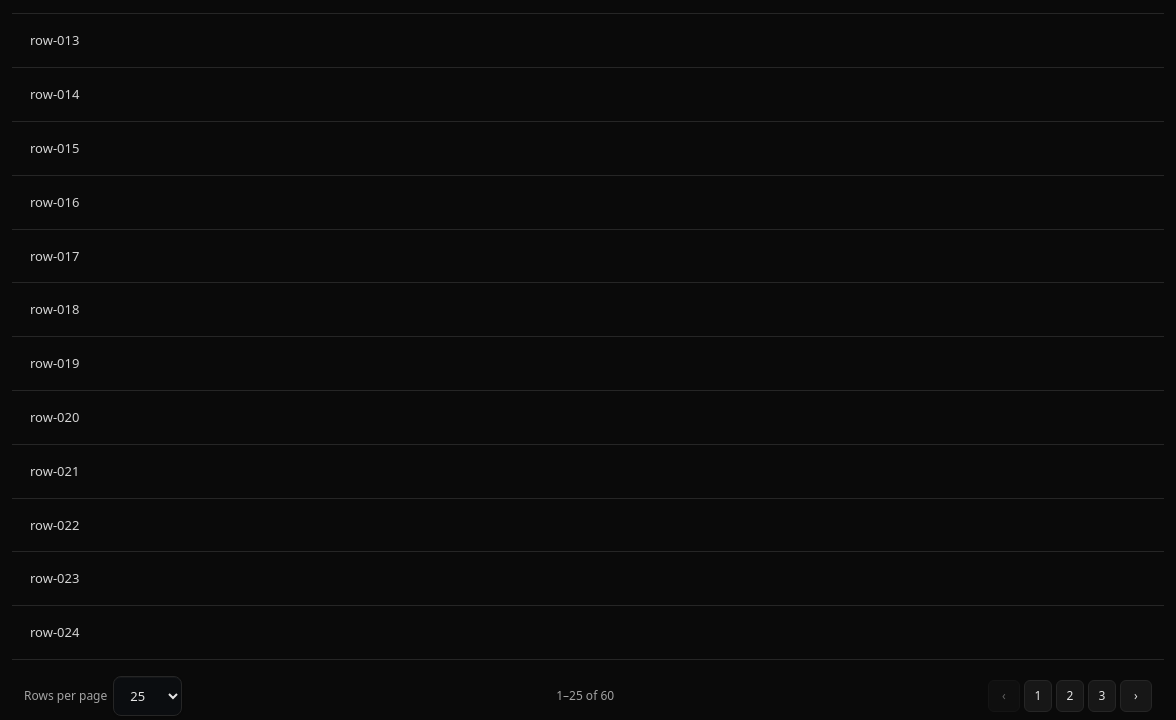
it: DataTable — pagination › ⭐ FILTERING FROM A DEEP PAGE RETURNS TO PAGE ONE — the operator's own search must not read as empty
(page scrolled)
Step 1. Click the button named "Next page" → [1136, 696], box [1120,680,1152,712]
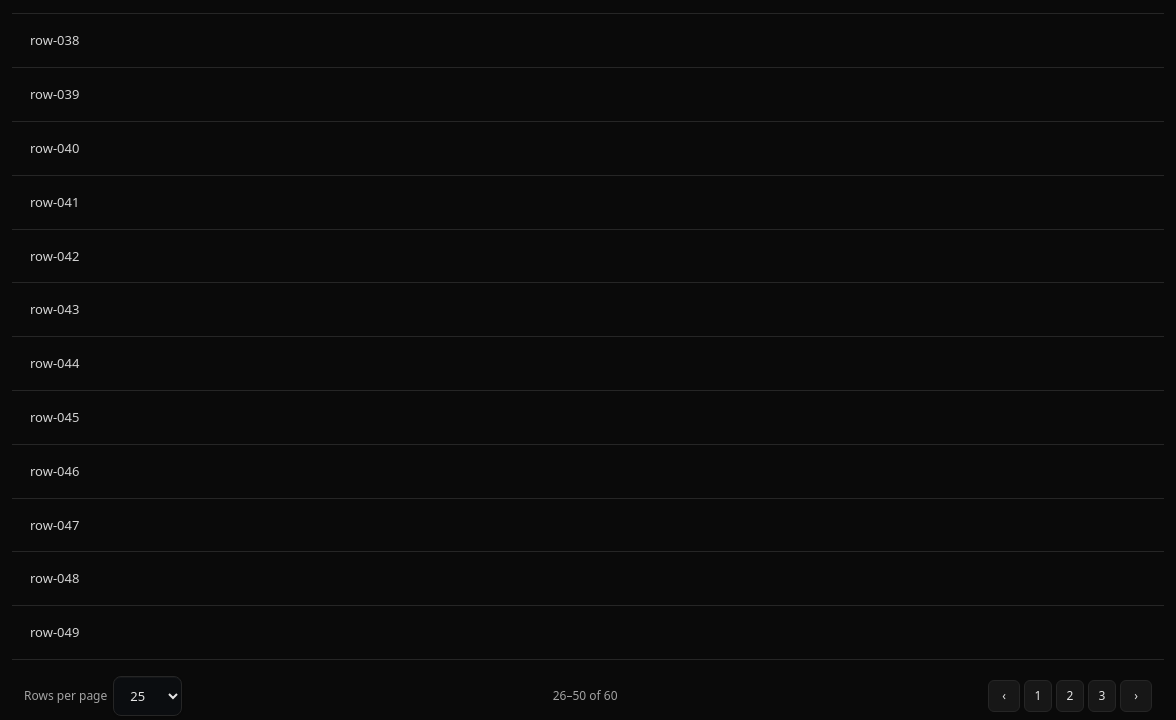
Step 2. Click the button named "Next page" → [1136, 696], box [1120,680,1152,712]
(page scrolled)
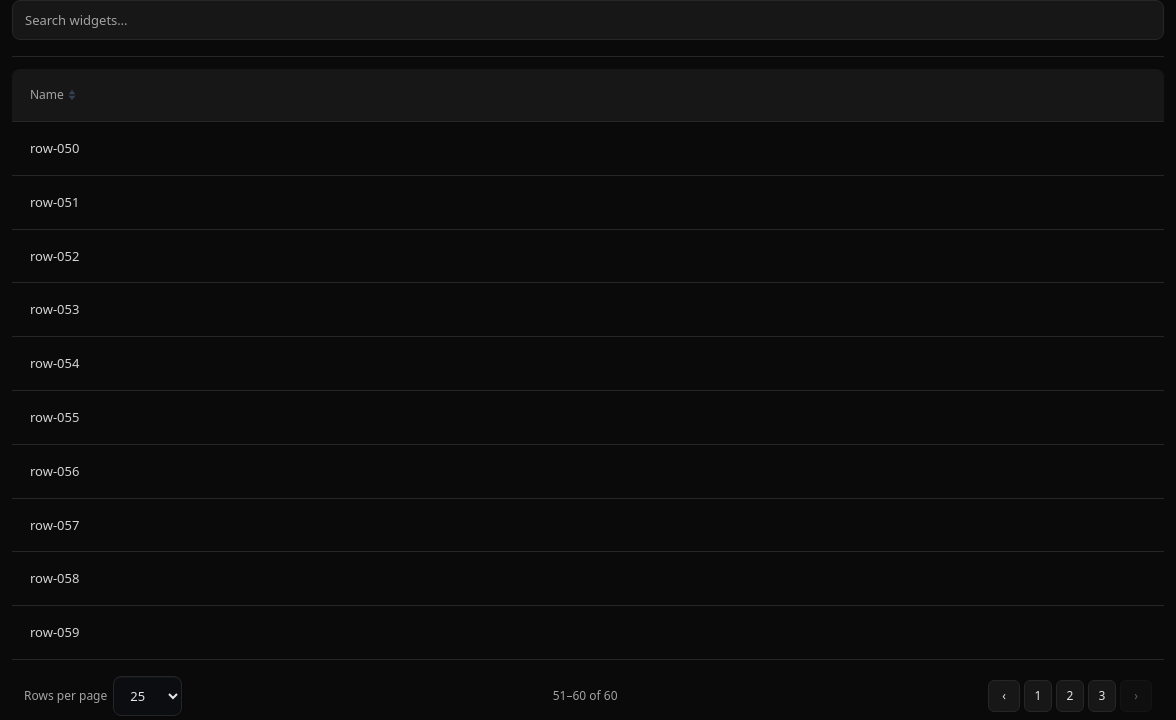
Step 3. Type "ana@ex.com" into the search field named "Filter Widgets" → [588, 20], box [12,0,1164,40]
(page scrolled)
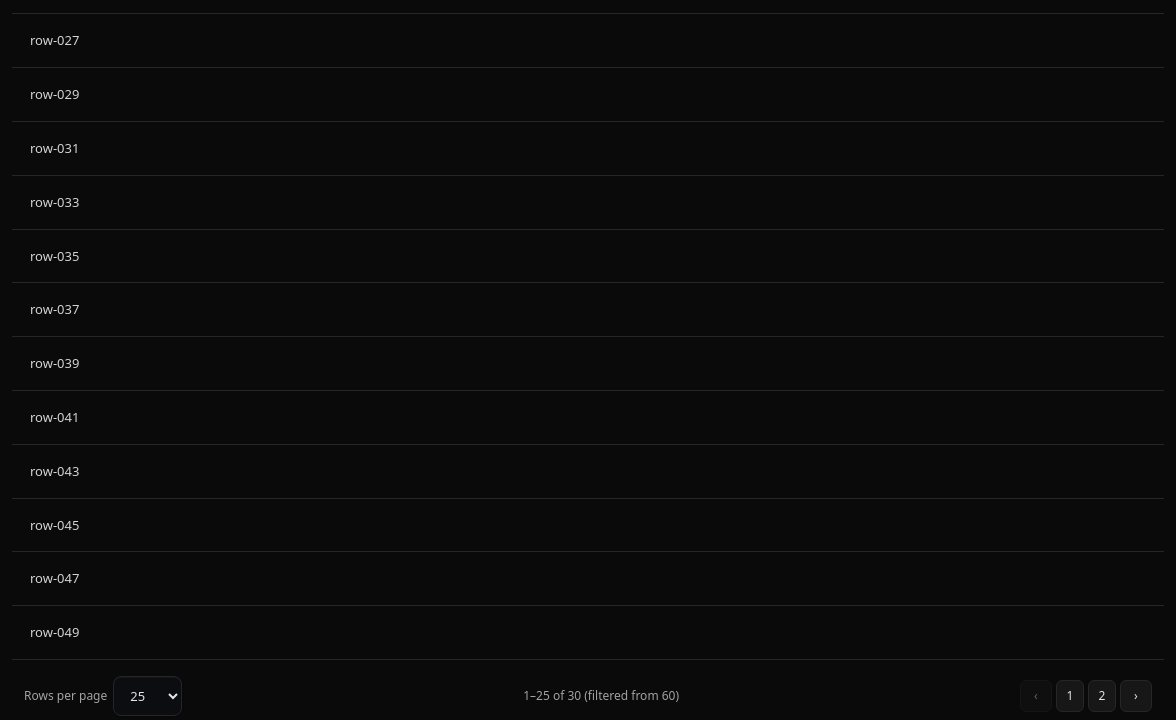
Expected: the text "1–25 of 30 (filtered from 60)" is shown, [523,687,679,705]
